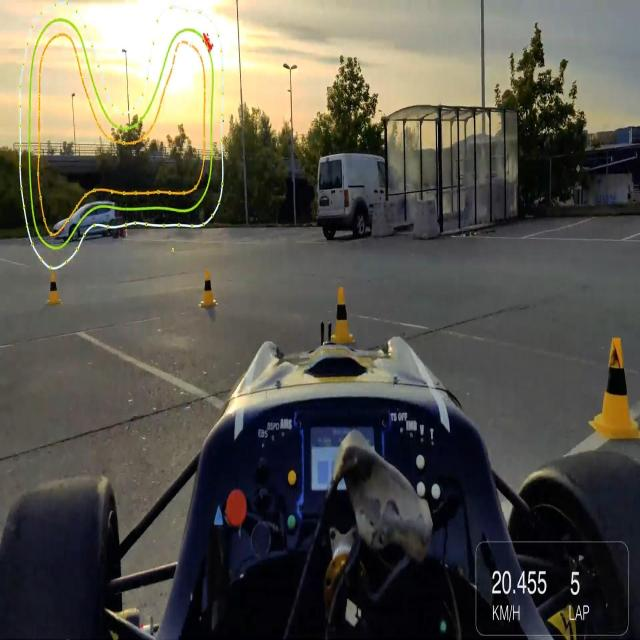yellow_cone: (592, 332, 639, 438), (332, 279, 356, 345), (200, 266, 217, 308), (47, 270, 61, 307)
